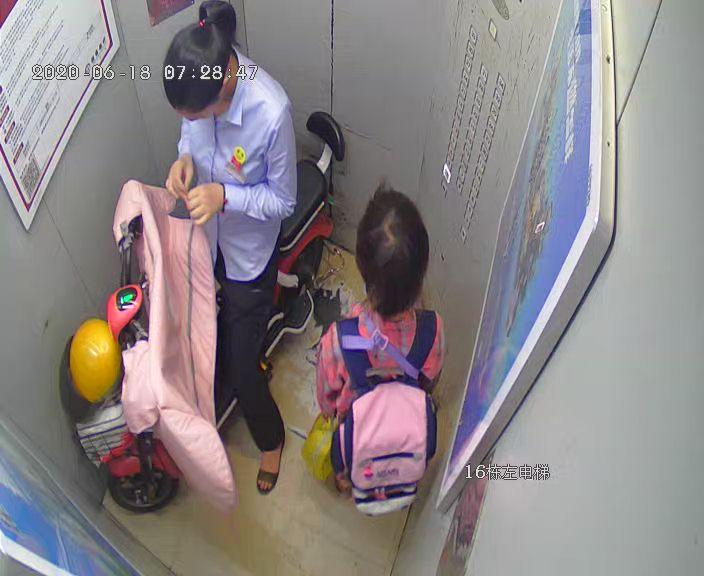Electric-bicycle: (55, 107, 344, 514)
